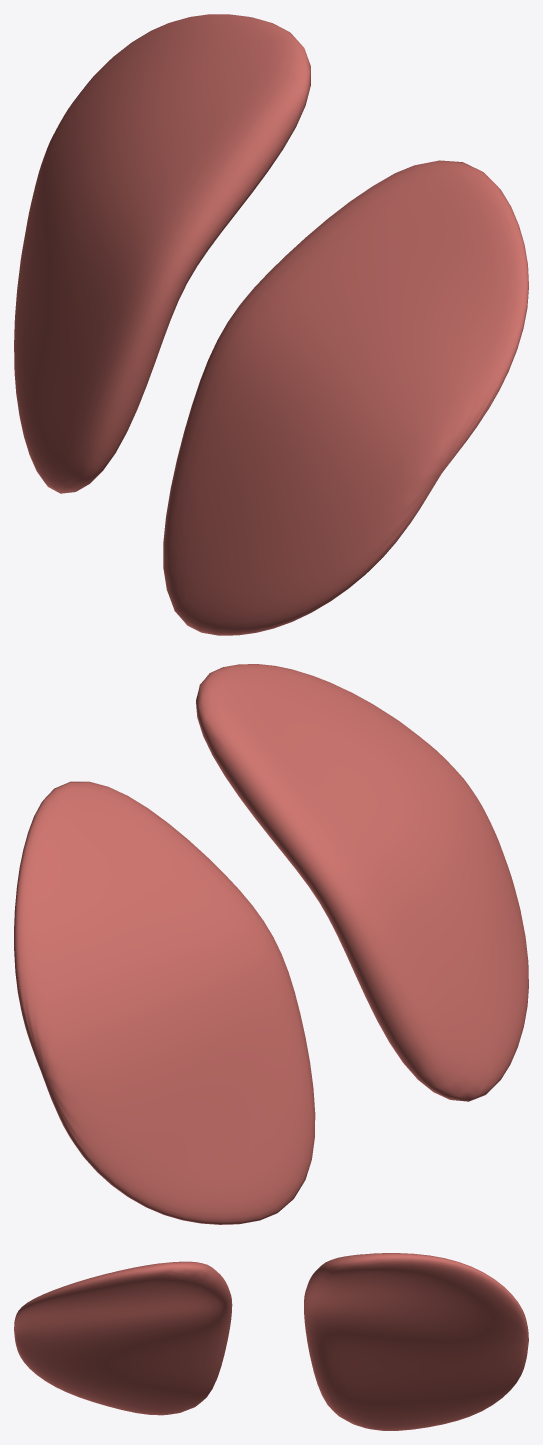
3 renders of one model, top to bottom at view 1: azimuth 30°, elevation 25°; view 2: azimuth 150°, elevation 25°; view 3: azimuth 270°, elevation 25°, orthographic. The views are drawn at different scales.
Parts seen in each view (by area): view 1: 右侧臀肌间囊; view 2: 右侧臀肌间囊; view 3: 右侧臀肌间囊.
Boxes of the visible parts, x1=… form: 右侧臀肌间囊: x1=14, y1=14, x2=528, y2=635; 右侧臀肌间囊: x1=14, y1=664, x2=528, y2=1224; 右侧臀肌间囊: x1=14, y1=1253, x2=528, y2=1430.
Size of the model in its own units: 0.019 by 0.0239 by 0.0456.
